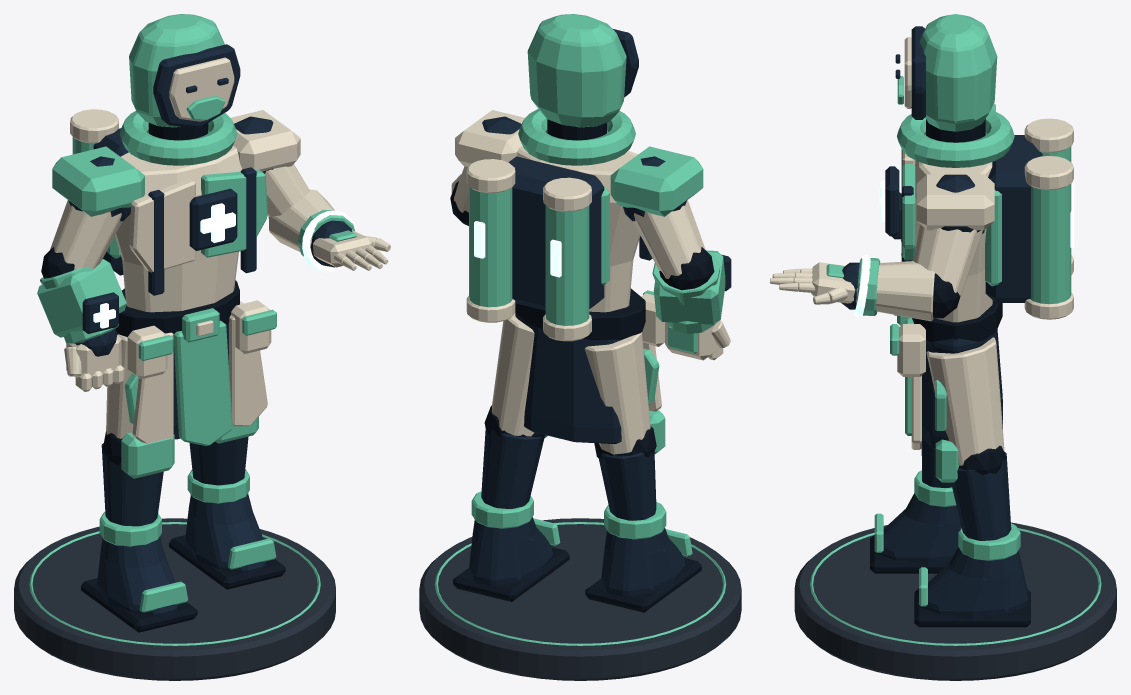
The model's file is suture.glb.
3 renders of one model, left to right at view 1: azimuth 30°, elevation 25°; view 2: azimuth 150°, elevation 25°; view 3: azimuth 270°, elevation 25°, orthographic.
Visible parts, largest first — view 1: suture_plinth, suture_medic_torso, suture_long_tunic_center, suture_hood, suture_right_shoulder_pad, suture_left_leg_boot, suture_right_leg_boot, suture_ivory_chest_right, suture_hood_collar, suture_medicine_gauntlet_shell, suture_right_leg_shin, suture_right_arm_upper_arm (+39 smaller); view 2: suture_plinth, suture_hood, suture_long_tunic_body, suture_compact_backpack, suture_right_leg_thigh, suture_vertical_medical_canister_0, suture_vertical_medical_canister_1, suture_right_shoulder_pad, suture_left_leg_boot, suture_right_leg_boot, suture_left_leg_shin, suture_hood_collar (+28 smaller); view 3: suture_plinth, suture_hood, suture_left_leg_thigh, suture_left_leg_boot, suture_compact_backpack, suture_vertical_medical_canister_1, suture_right_leg_boot, suture_hood_collar, suture_left_leg_shin, suture_left_shoulder_pad, suture_left_arm_forearm, suture_left_arm_upper_arm (+29 smaller).
Boxes of the visible parts, <box> form: suture_plinth: <box>14,518,335,680</box>; suture_medic_torso: <box>115,145,242,312</box>; suture_long_tunic_center: <box>173,320,232,446</box>; suture_hood: <box>129,14,224,127</box>; suture_right_shoulder_pad: <box>52,146,144,216</box>; suture_left_leg_boot: <box>185,493,267,573</box>; suture_right_leg_boot: <box>97,536,179,616</box>; suture_ivory_chest_right: <box>129,178,195,272</box>; suture_hood_collar: <box>119,111,237,165</box>; suture_medicine_gauntlet_shell: <box>37,259,126,337</box>; suture_right_leg_shin: <box>101,443,163,526</box>; suture_right_arm_upper_arm: <box>50,200,122,269</box>; suture_plinth: <box>419,518,741,680</box>; suture_hood: <box>527,14,626,127</box>; suture_long_tunic_body: <box>517,318,628,444</box>; suture_compact_backpack: <box>508,156,604,310</box>; suture_right_leg_thigh: <box>584,332,650,454</box>; suture_vertical_medical_canister_0: <box>545,205,589,325</box>; suture_vertical_medical_canister_1: <box>469,186,512,307</box>; suture_right_shoulder_pad: <box>610,146,703,216</box>; suture_left_leg_boot: <box>469,517,553,586</box>; suture_right_leg_boot: <box>601,528,685,596</box>; suture_left_leg_shin: <box>481,428,544,508</box>; suture_hood_collar: <box>518,109,635,165</box>; suture_plinth: <box>794,522,1116,680</box>; suture_hood: <box>919,14,997,131</box>; suture_left_leg_thigh: <box>926,337,1004,465</box>; suture_left_leg_boot: <box>917,547,1028,619</box>; suture_compact_backpack: <box>985,135,1042,302</box>; suture_vertical_medical_canister_1: <box>1030,184,1071,304</box>; suture_right_leg_boot: <box>873,493,961,565</box>; suture_hood_collar: <box>897,110,1014,167</box>; suture_left_leg_shin: <box>951,452,1011,540</box>; suture_left_shoulder_pad: <box>916,174,994,230</box>; suture_left_arm_forearm: <box>855,261,934,321</box>; suture_left_arm_upper_arm: <box>913,224,982,295</box>.
Bounding box in the file's own units: 1.27 × 2.52 × 1.33.
